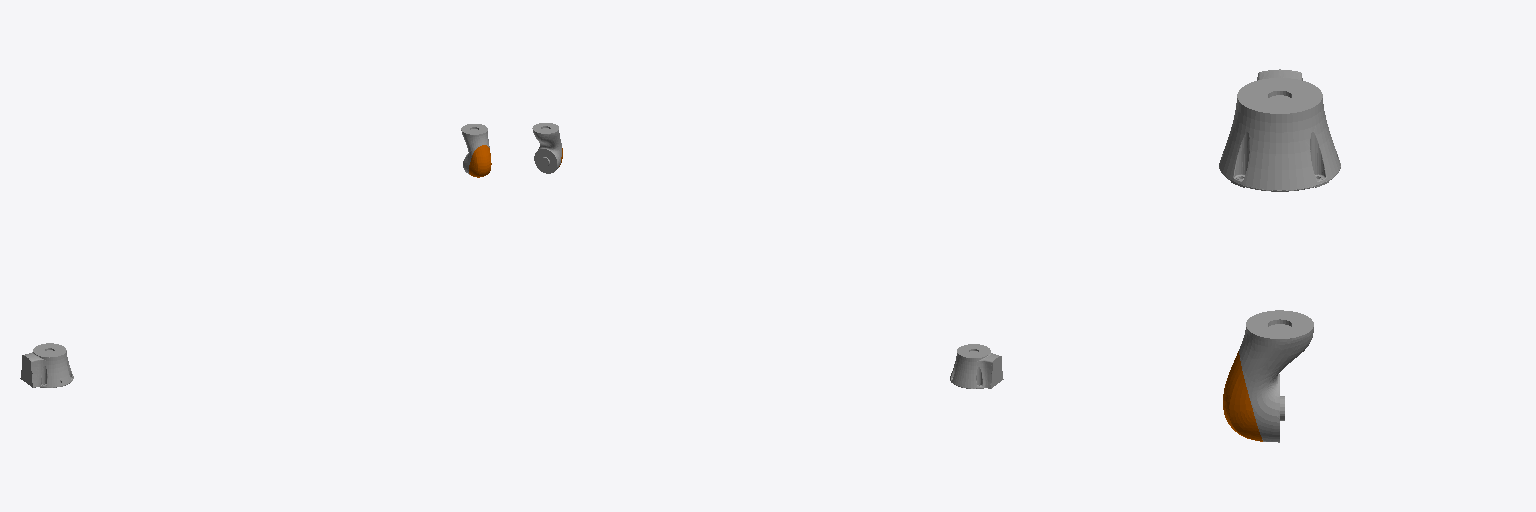
URDF robot description (kuka_kr120r2500pro):
<?xml version="1.0" encoding="utf-8"?>
<!-- =================================================================================== -->
<!-- |    This document was autogenerated by xacro from kr120r2500pro.xacro            | -->
<!-- |    EDITING THIS FILE BY HAND IS NOT RECOMMENDED                                 | -->
<!-- =================================================================================== -->
<!--Generates a urdf from the macro in kr120r2500pro_macro.xacro -->
<robot name="kuka_kr120r2500pro">
  <!-- LINKS -->
  <!-- base link -->
  <link name="base_link">
    <inertial>
      <origin rpy="0 0 0" xyz="0 0 0"/>
      <mass value="2"/>
      <inertia ixx="0.01" ixy="0" ixz="0" iyy="0.01" iyz="0" izz="0.01"/>
    </inertial>
    <visual>
      <origin rpy="0 0 0" xyz="0 0 0"/>
      <geometry>
        <mesh filename="./meshes/kr120r2500pro/visual/base_link.dae"/>
      </geometry>
    </visual>
    <collision>
      <origin rpy="0 0 0" xyz="0 0 0"/>
      <geometry>
        <mesh filename="./meshes/kr120r2500pro/collision/base_link.stl"/>
      </geometry>
    </collision>
  </link>
  <!-- link 1 (A1) -->
  <link name="link_1">
    <inertial>
      <origin rpy="0 0 0" xyz="0 0 0"/>
      <mass value="2"/>
      <inertia ixx="0.01" ixy="0" ixz="0" iyy="0.01" iyz="0" izz="0.01"/>
    </inertial>
    <visual>
      <origin rpy="0 0 0" xyz="0 0 0"/>
      <geometry>
        <mesh filename="./meshes/kr120r2500pro/visual/link_1.dae"/>
      </geometry>
    </visual>
    <collision>
      <origin rpy="0 0 0" xyz="0 0 0"/>
      <geometry>
        <mesh filename="./meshes/kr120r2500pro/collision/link_1.stl"/>
      </geometry>
    </collision>
  </link>
  <!-- link 2 -->
  <link name="link_2">
    <inertial>
      <origin rpy="0 0 0" xyz="0 0 0"/>
      <mass value="2"/>
      <inertia ixx="0.01" ixy="0" ixz="0" iyy="0.01" iyz="0" izz="0.01"/>
    </inertial>
    <visual>
      <origin rpy="0 0 0" xyz="0 0 0"/>
      <geometry>
        <mesh filename="./meshes/kr120r2500pro/visual/link_2.dae"/>
      </geometry>
    </visual>
    <collision>
      <origin rpy="0 0 0" xyz="0 0 0"/>
      <geometry>
        <mesh filename="./meshes/kr120r2500pro/collision/link_2.stl"/>
      </geometry>
    </collision>
  </link>
  <!-- link 3 -->
  <link name="link_3">
    <inertial>
      <origin rpy="0 0 0" xyz="0 0 0"/>
      <mass value="2"/>
      <inertia ixx="0.01" ixy="0" ixz="0" iyy="0.01" iyz="0" izz="0.01"/>
    </inertial>
    <visual>
      <origin rpy="0 0 0" xyz="0 0 0"/>
      <geometry>
        <mesh filename="./meshes/kr120r2500pro/visual/link_3.dae"/>
      </geometry>
    </visual>
    <collision>
      <origin rpy="0 0 0" xyz="0 0 0"/>
      <geometry>
        <mesh filename="./meshes/kr120r2500pro/collision/link_3.stl"/>
      </geometry>
    </collision>
  </link>
  <!-- link 4 -->
  <link name="link_4">
    <inertial>
      <origin rpy="0 0 0" xyz="0 0 0"/>
      <mass value="2"/>
      <inertia ixx="0.01" ixy="0" ixz="0" iyy="0.01" iyz="0" izz="0.01"/>
    </inertial>
    <visual>
      <origin rpy="0 0 0" xyz="0 0 0"/>
      <geometry>
        <mesh filename="./meshes/kr120r2500pro/visual/link_4.dae"/>
      </geometry>
    </visual>
    <collision>
      <origin rpy="0 0 0" xyz="0 0 0"/>
      <geometry>
        <mesh filename="./meshes/kr120r2500pro/collision/link_4.stl"/>
      </geometry>
    </collision>
  </link>
  <!-- link 5 -->
  <link name="link_5">
    <inertial>
      <origin rpy="0 0 0" xyz="0 0 0"/>
      <mass value="2"/>
      <inertia ixx="0.01" ixy="0" ixz="0" iyy="0.01" iyz="0" izz="0.01"/>
    </inertial>
    <visual>
      <origin rpy="0 0 0" xyz="0 0 0"/>
      <geometry>
        <mesh filename="./meshes/kr120r2500pro/visual/link_5.dae"/>
      </geometry>
    </visual>
    <collision>
      <origin rpy="0 0 0" xyz="0 0 0"/>
      <geometry>
        <mesh filename="./meshes/kr120r2500pro/collision/link_5.stl"/>
      </geometry>
    </collision>
  </link>
  <!-- link 6 -->
  <link name="link_6">
    <inertial>
      <origin rpy="0 0 0" xyz="0 0 0"/>
      <mass value="2"/>
      <inertia ixx="0.01" ixy="0" ixz="0" iyy="0.01" iyz="0" izz="0.01"/>
    </inertial>
    <visual>
      <origin rpy="0 0 0" xyz="0 0 0"/>
      <geometry>
        <mesh filename="./meshes/kr120r2500pro/visual/link_6.dae"/>
      </geometry>
    </visual>
    <collision>
      <origin rpy="0 0 0" xyz="0 0 0"/>
      <geometry>
        <mesh filename="./meshes/kr120r2500pro/collision/link_6.stl"/>
      </geometry>
    </collision>
  </link>
  <!-- tool 0 -->
  <!-- This frame corresponds to the $FLANGE coordinate system in KUKA KRC controllers. -->
  <link name="tool0"/>
  <!-- END LINKS -->
  <!-- JOINTS -->
  <!-- joint 1 (A1) -->
  <joint name="joint_a1" type="revolute">
    <origin rpy="0 0 0" xyz="0 0 0.675"/>
    <parent link="base_link"/>
    <child link="link_1"/>
    <axis xyz="0 0 -1"/>
    <limit effort="0" lower="-3.22885911619" upper="3.22885911619" velocity="2.72271363311"/>
  </joint>
  <!-- joint 2 (A2) -->
  <joint name="joint_a2" type="revolute">
    <origin rpy="0 0 0" xyz="0.35 0 0"/>
    <parent link="link_1"/>
    <child link="link_2"/>
    <axis xyz="0 1 0"/>
    <limit effort="0" lower="-2.70526034059" upper="0.610865238198" velocity="2.72271363311"/>
  </joint>
  <!-- joint 3 (A3) -->
  <joint name="joint_a3" type="revolute">
    <origin rpy="0 0 0" xyz="1.150 0 0"/>
    <parent link="link_2"/>
    <child link="link_3"/>
    <axis xyz="0 1 0"/>
    <limit effort="0" lower="-2.26892802759" upper="2.68780704807" velocity="2.72271363311"/>
  </joint>
  <!-- joint 4 (A4) -->
  <joint name="joint_a4" type="revolute">
    <origin rpy="0 0 0" xyz="1.0 0 -0.041"/>
    <parent link="link_3"/>
    <child link="link_4"/>
    <axis xyz="-1 0 0"/>
    <limit effort="0" lower="-6.10865238198" upper="6.10865238198" velocity="5.75958653158"/>
  </joint>
  <!-- joint 5 (A5) -->
  <joint name="joint_a5" type="revolute">
    <origin rpy="0 0 0" xyz="0 0 0"/>
    <parent link="link_4"/>
    <child link="link_5"/>
    <axis xyz="0 1 0"/>
    <limit effort="0" lower="-2.26892802759" upper="2.26892802759" velocity="5.75958653158"/>
  </joint>
  <!-- joint 6 (A6) -->
  <joint name="joint_a6" type="revolute">
    <origin rpy="0 0 0" xyz="0 0 0"/>
    <parent link="link_5"/>
    <child link="link_6"/>
    <axis xyz="-1 0 0"/>
    <limit effort="0" lower="-6.10865238198" upper="6.10865238198" velocity="10.7337748998"/>
  </joint>
  <!-- tool frame - fixed frame -->
  <joint name="joint_a6-tool0" type="fixed">
    <parent link="link_6"/>
    <child link="tool0"/>
    <origin rpy="0 1.57079632679 0" xyz="0.215 0 0"/>
  </joint>
  <!-- END JOINTS -->
  <!-- ROS base_link to KUKA $ROBROOT coordinate system transform -->
  <link name="base"/>
  <joint name="base_link-base" type="fixed">
    <origin rpy="0 0 0" xyz="0 0 0"/>
    <parent link="base_link"/>
    <child link="base"/>
  </joint>
</robot>

--- Render facts (derived) ---
The picture shows the robot from 3 angles, left to right: view 1: azimuth 30°, elevation 25°; view 2: azimuth 150°, elevation 25°; view 3: azimuth 270°, elevation 25°; orthographic projection.
Model kuka_kr120r2500pro with 9 links and 8 joints (6 revolute, 2 fixed), rooted at base_link, posed all joints at 0.
Links seen in each view (by area): view 1: base_link, link_4; view 2: base_link, link_4; view 3: base_link, link_4.
Link boxes in pixels (x1,y1,x2,y2): base_link: (20,343,73,387); link_4: (461,124,491,177); base_link: (950,344,1003,388); link_4: (532,123,562,173); base_link: (1219,69,1340,191); link_4: (1223,310,1313,442).
Size in the robot's own frame: 2.7 by 0.2426 by 0.8185 metres.
Meshes: 7 distinct files referenced, 2 mesh visuals loaded (2 Collada DAE); not drawn: 5 (reference not matched to a file when rendering).